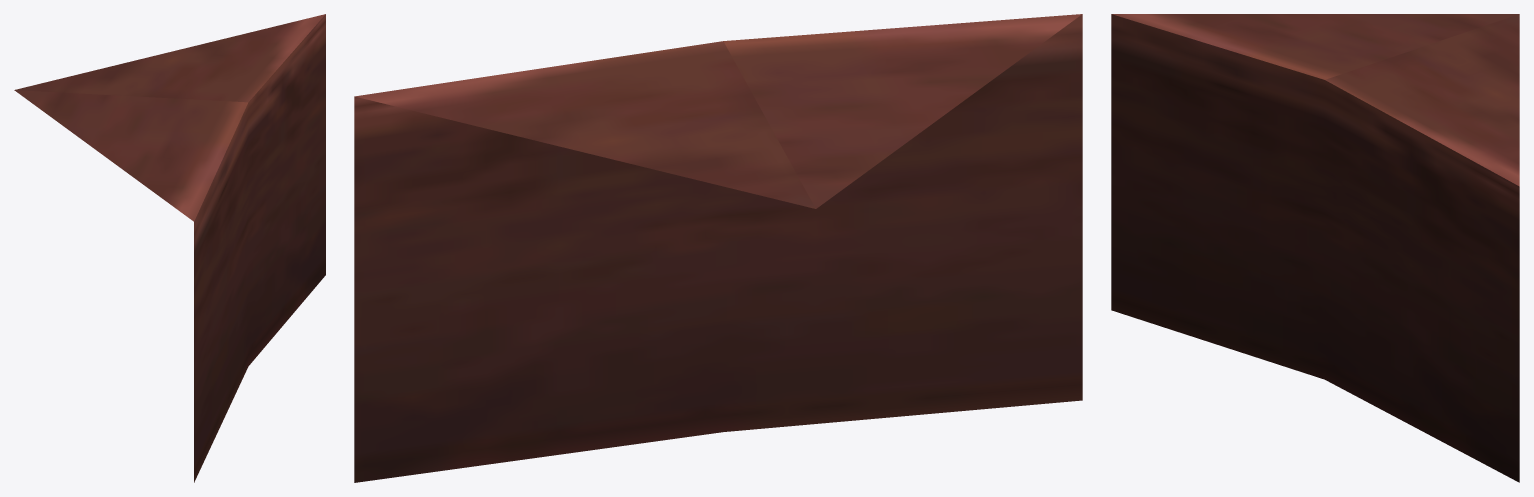
Rendered from lava_cap_convex_01.fbx.
The picture shows the model from 3 angles, left to right: view 1: azimuth 30°, elevation 25°; view 2: azimuth 150°, elevation 25°; view 3: azimuth 270°, elevation 25°; orthographic projection. The views are drawn at different scales.
Visible parts, largest first — view 1: lava_tileset/trim_alpha_filler_depth_write; view 2: lava_tileset/trim_alpha_filler_depth_write; view 3: lava_tileset/trim_alpha_filler_depth_write.
Boxes of the visible parts, x1,y1,x2,y2 form: lava_tileset/trim_alpha_filler_depth_write: (14,14,325,482); lava_tileset/trim_alpha_filler_depth_write: (354,14,1082,482); lava_tileset/trim_alpha_filler_depth_write: (1111,14,1519,482).
Size of the model in its own units: 0.625 by 0.5275 by 0.625.
